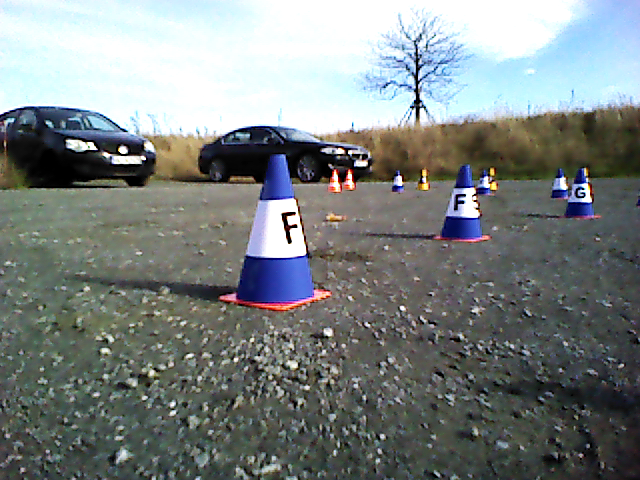bluecone: (240, 155, 314, 299), (443, 166, 482, 237), (566, 168, 593, 216), (552, 170, 568, 196), (478, 171, 490, 194)
orangeconesmall: (329, 170, 343, 191), (344, 169, 356, 190)
